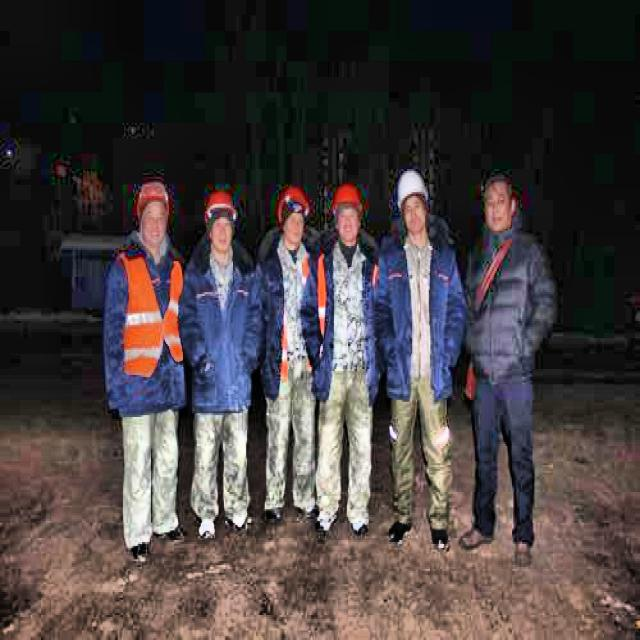helmet: (129, 169, 177, 252), (393, 161, 431, 254), (200, 184, 237, 256), (329, 177, 365, 250), (276, 177, 312, 250)
